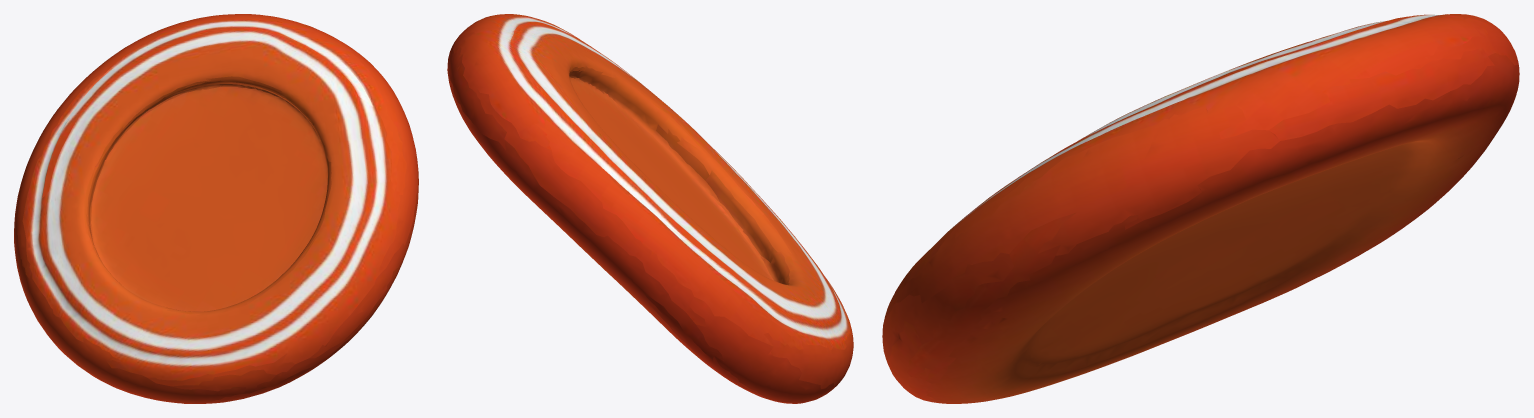
Rendered from wish_frisbee.glb.
3 views of the same model, side by side, from view 1: azimuth 30°, elevation 25°; view 2: azimuth 150°, elevation 25°; view 3: azimuth 270°, elevation 25° (orthographic). The views are drawn at different scales.
Parts seen in each view (by area): view 1: world; view 2: world; view 3: world.
Part boxes in pixels (box(x1,y1,x2,y2)): world: box(14, 14, 418, 403); world: box(447, 14, 853, 403); world: box(882, 14, 1519, 403).
Size of the model in its own units: 0.27 by 0.2231 by 0.2706.
1 material, 1 textured.
